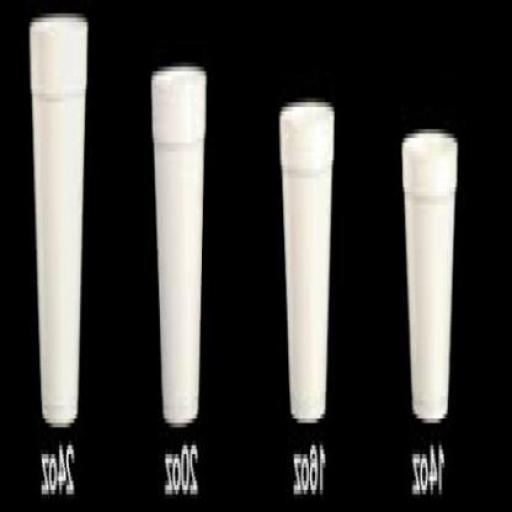paper: (32, 18, 92, 423), (154, 62, 208, 423), (280, 98, 338, 428), (401, 130, 458, 418)
